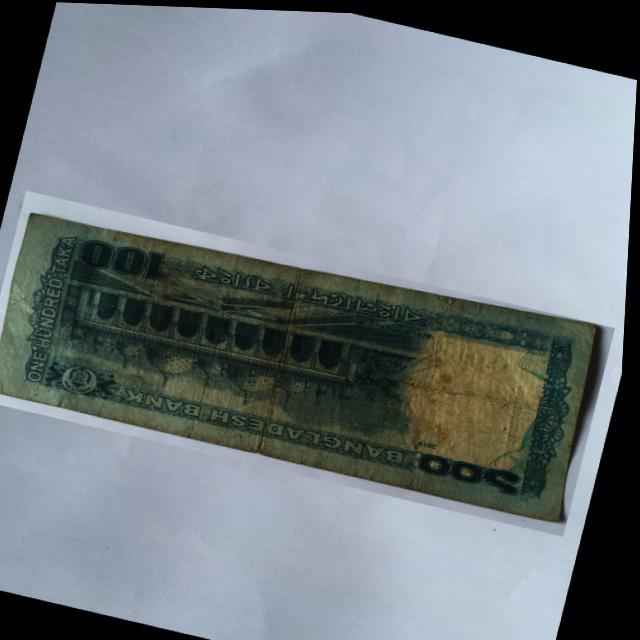Taka: (0, 189, 622, 533)
